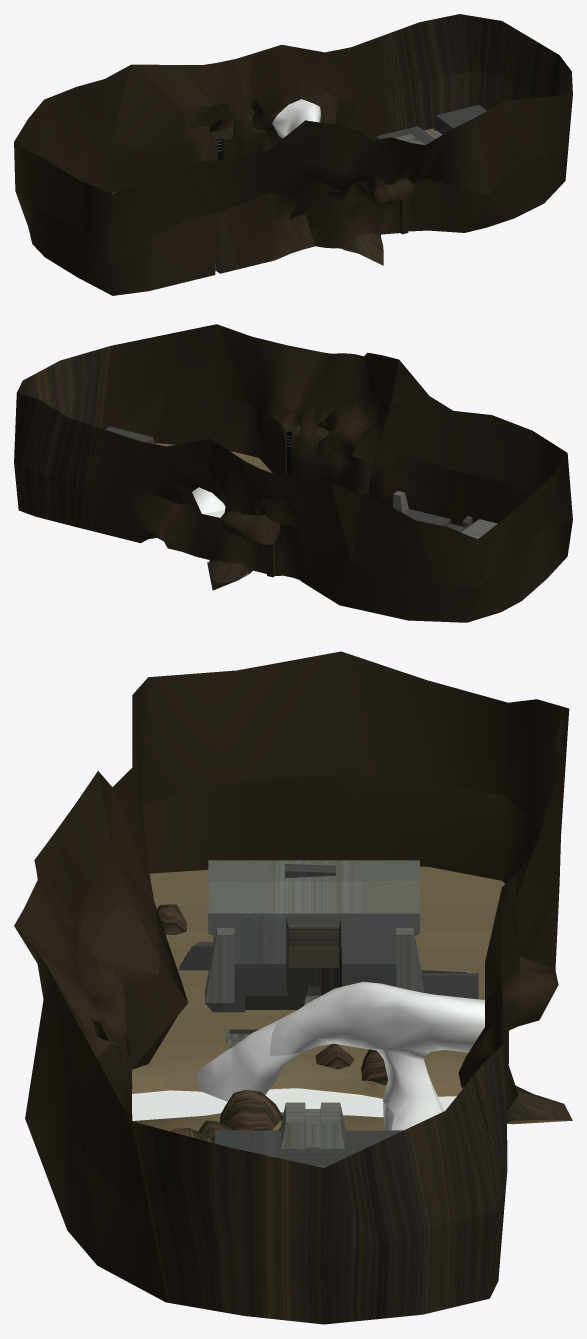
Rendered from Halo_BeaverCreek.fbx.
3 views of the same model, one above another, from view 1: azimuth 30°, elevation 25°; view 2: azimuth 150°, elevation 25°; view 3: azimuth 270°, elevation 25° (orthographic). The views are drawn at different scales.
Visible parts, largest first — view 1: beavercreek_cliffs, metal_flat_generic, beavercreek_bridge; view 2: beavercreek_cliffs, metal_flat_generic, metal_panels_generic_ext, beavercreek_bridge; view 3: beavercreek_cliffs, beavercreek_ground, beavercreek_bridge, metal_panels_generic_ext, metal_flat_generic, beavercreek_boulder, beaver_water, metal_panels_ext_unearthed.
Boxes of the visible parts, <box> form: beavercreek_cliffs: <box>14,14,572,295</box>; metal_flat_generic: <box>215,105,486,273</box>; beavercreek_bridge: <box>272,99,321,138</box>; beavercreek_cliffs: <box>14,324,572,622</box>; metal_flat_generic: <box>105,426,472,531</box>; metal_panels_generic_ext: <box>393,491,497,539</box>; beavercreek_bridge: <box>192,487,225,517</box>; beavercreek_cliffs: <box>14,651,572,1324</box>; beavercreek_ground: <box>132,866,572,1131</box>; beavercreek_bridge: <box>195,981,484,1130</box>; metal_panels_generic_ext: <box>205,860,470,1148</box>; metal_flat_generic: <box>179,871,478,1167</box>; beavercreek_boulder: <box>157,904,433,1142</box>; beaver_water: <box>132,1088,456,1120</box>; metal_panels_ext_unearthed: <box>245,927,339,1009</box>.
Size of the model in its own units: 4286 by 1244 by 2110.
Materials: 17 (16 with a texture image).
